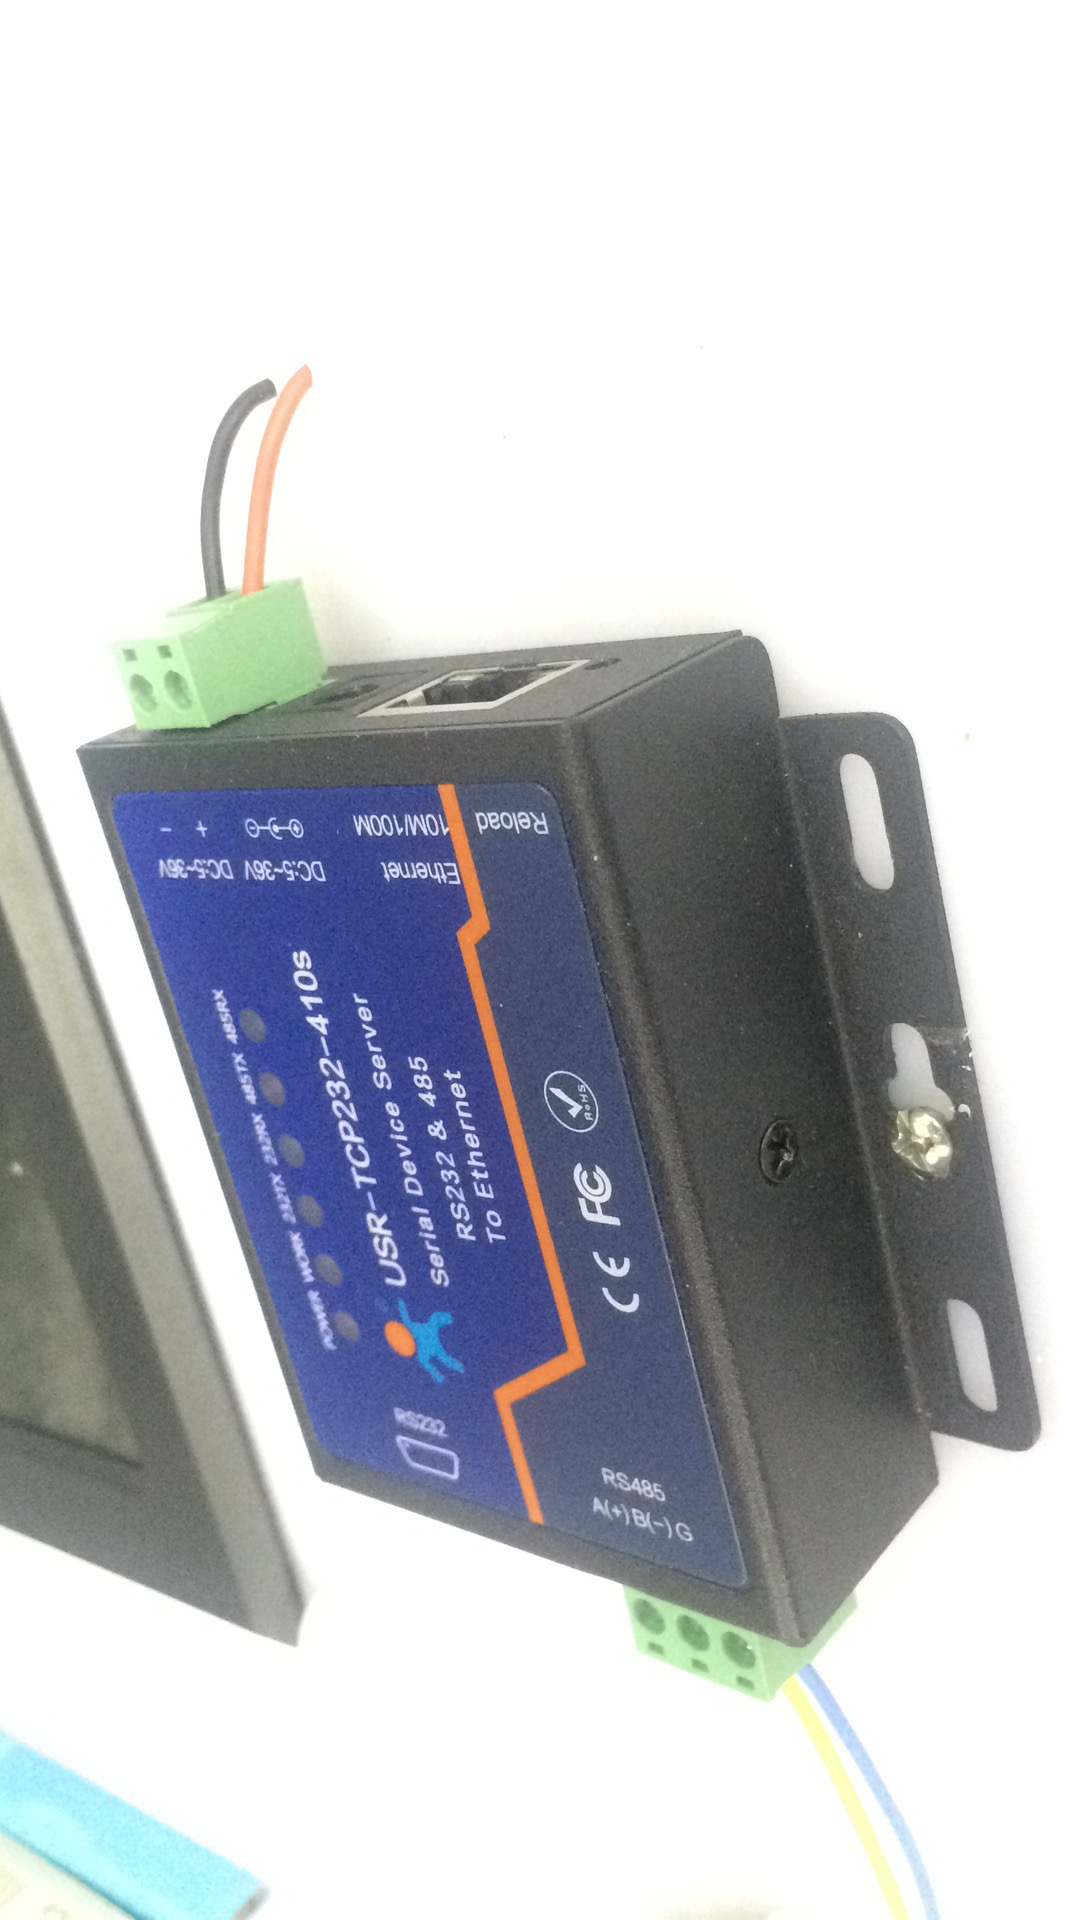modbus bridge: (255, 458, 1059, 1643)
